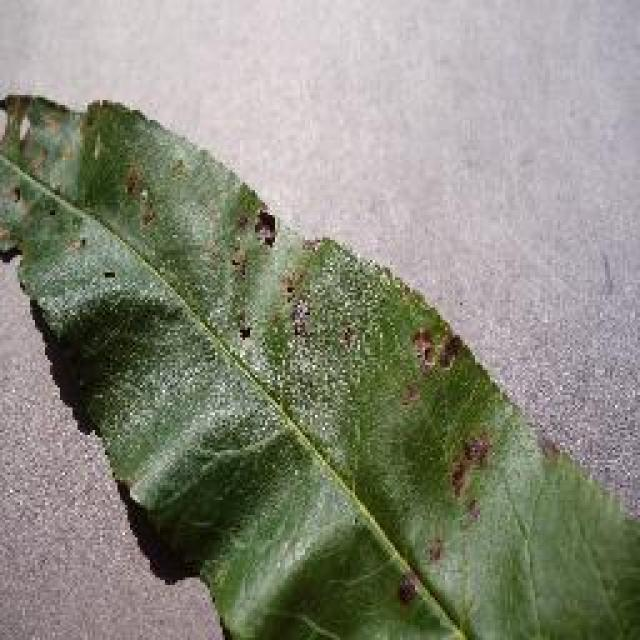Peach_Bacterial_Spot: (48, 105, 512, 530)
